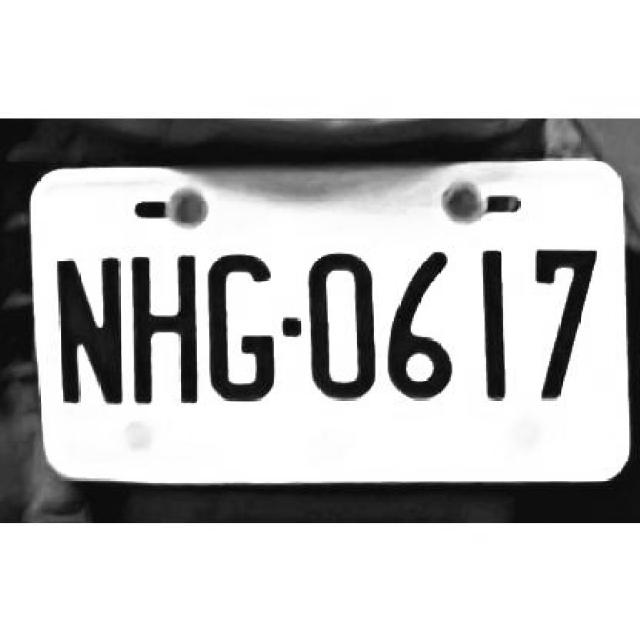-: (282, 314, 303, 338)
0: (304, 246, 376, 403)
1: (479, 245, 506, 403)
6: (384, 242, 458, 406)
7: (531, 242, 597, 408)
G: (200, 246, 275, 411)
H: (123, 246, 203, 412)
N: (49, 249, 126, 408)
